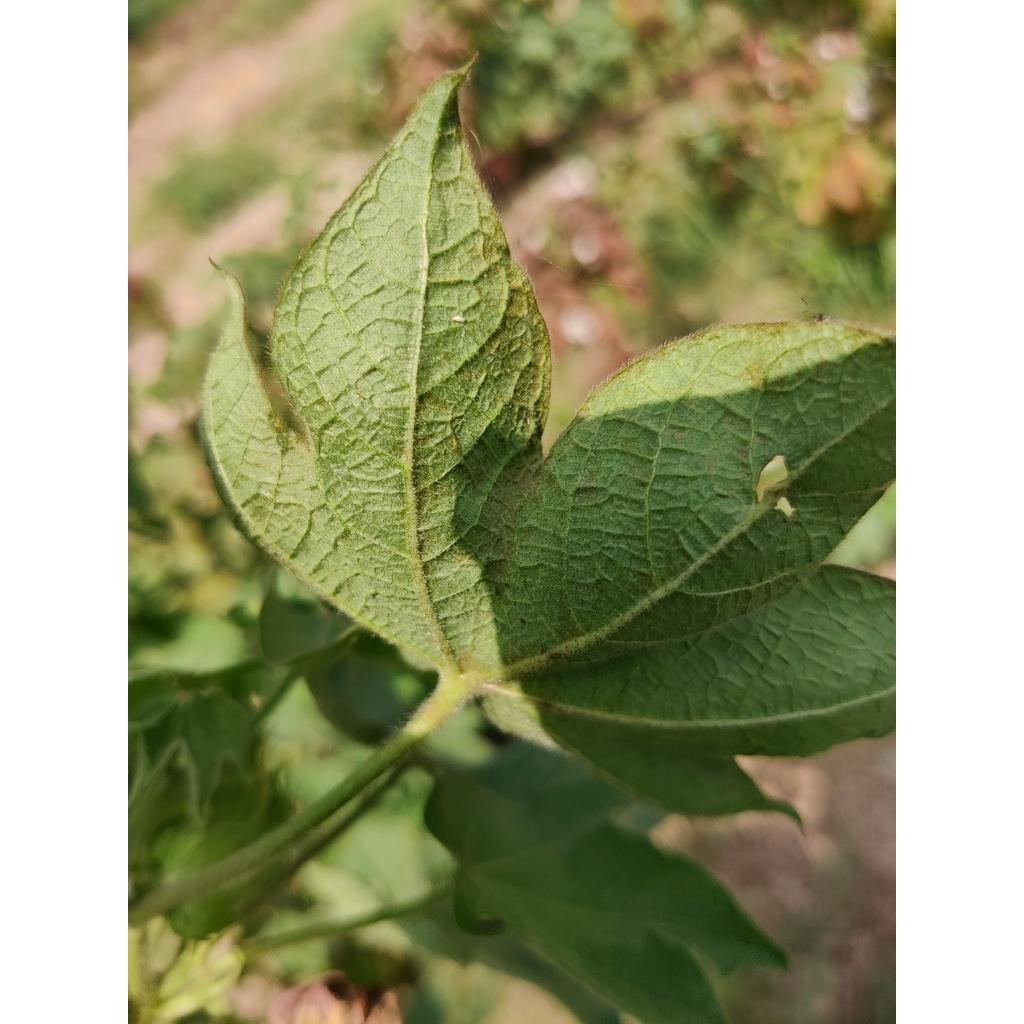adult: (450, 314, 466, 324)
